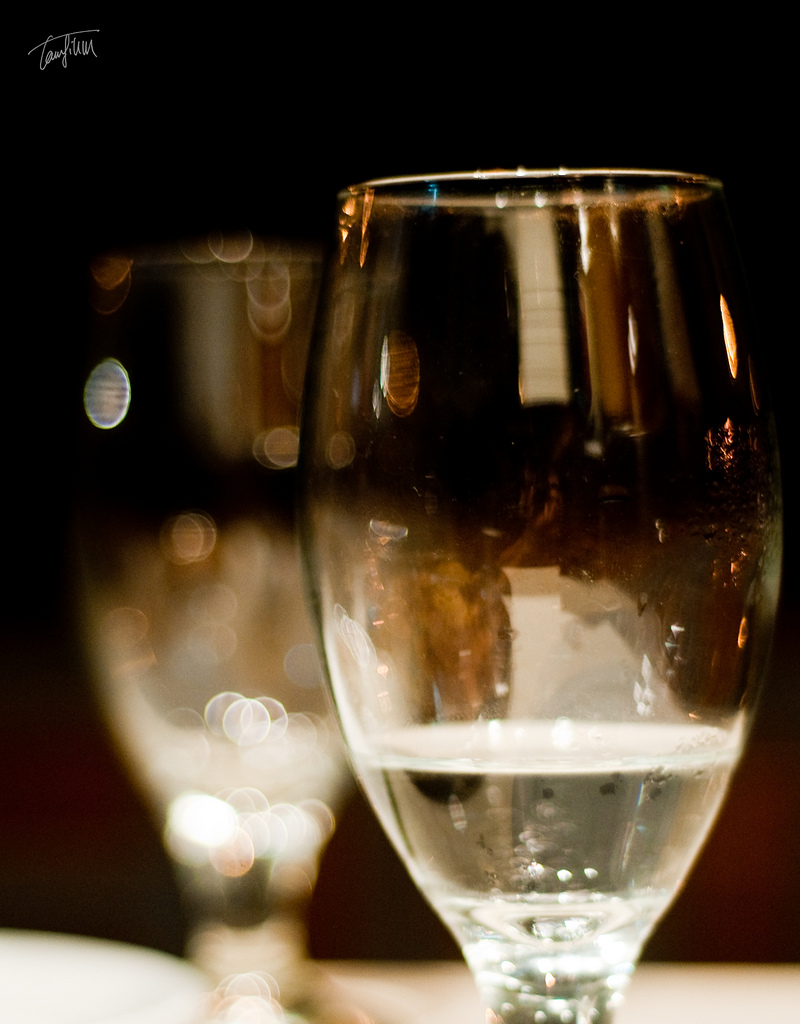glass of water: (344, 186, 754, 1000)
